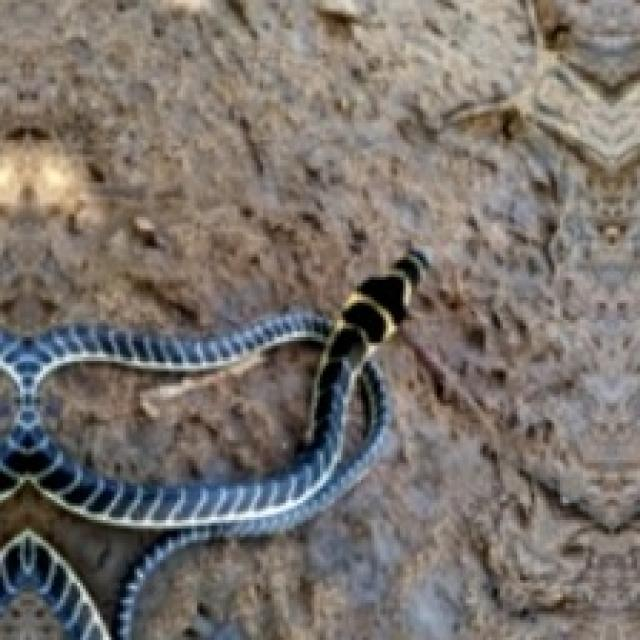king cobra: (0, 249, 426, 637), (37, 337, 323, 483)
